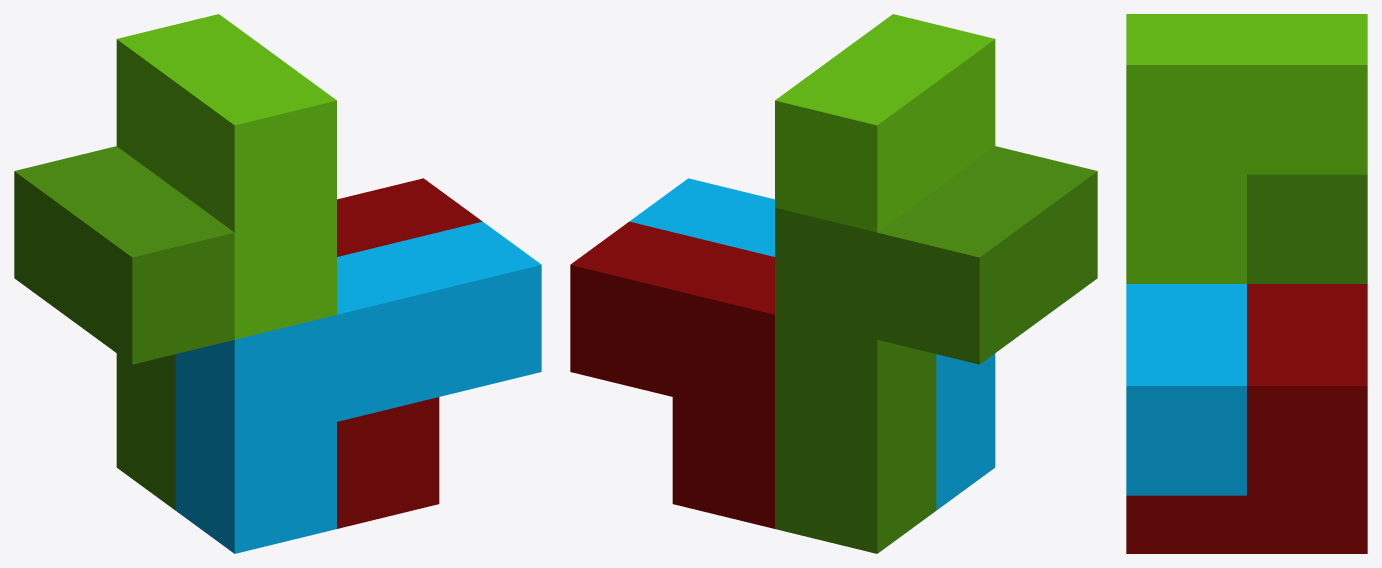
3 views of the same model, side by side, from view 1: azimuth 30°, elevation 25°; view 2: azimuth 150°, elevation 25°; view 3: azimuth 270°, elevation 25° (orthographic). The views are drawn at different scales.
Visible parts, largest first — view 1: mergedBlocks(Clone); view 2: mergedBlocks(Clone); view 3: mergedBlocks(Clone).
Boxes of the visible parts, x1,y1,x2,y2 form: mergedBlocks(Clone): (14, 14, 541, 553); mergedBlocks(Clone): (570, 14, 1097, 553); mergedBlocks(Clone): (1126, 14, 1367, 553).
Size of the model in its own units: 4 by 4 by 2.
Materials: 4 (4 with a texture image).
